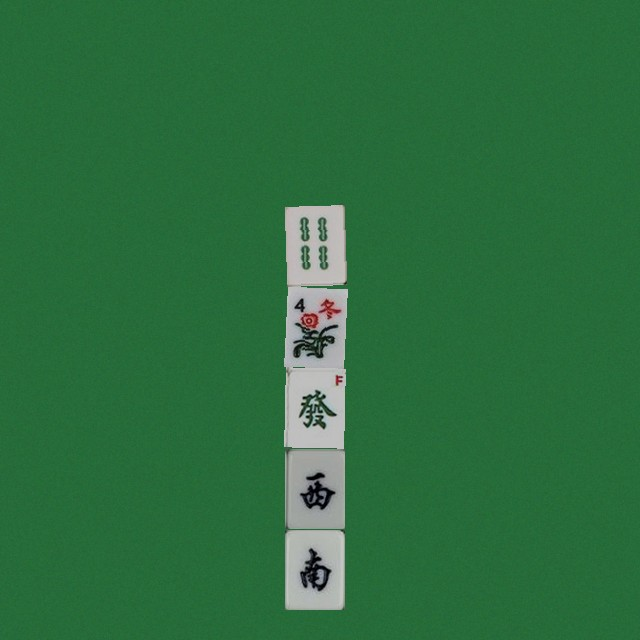tile: (284, 205, 344, 285), (284, 286, 344, 366), (284, 367, 344, 447), (284, 448, 344, 528), (284, 529, 344, 609)
